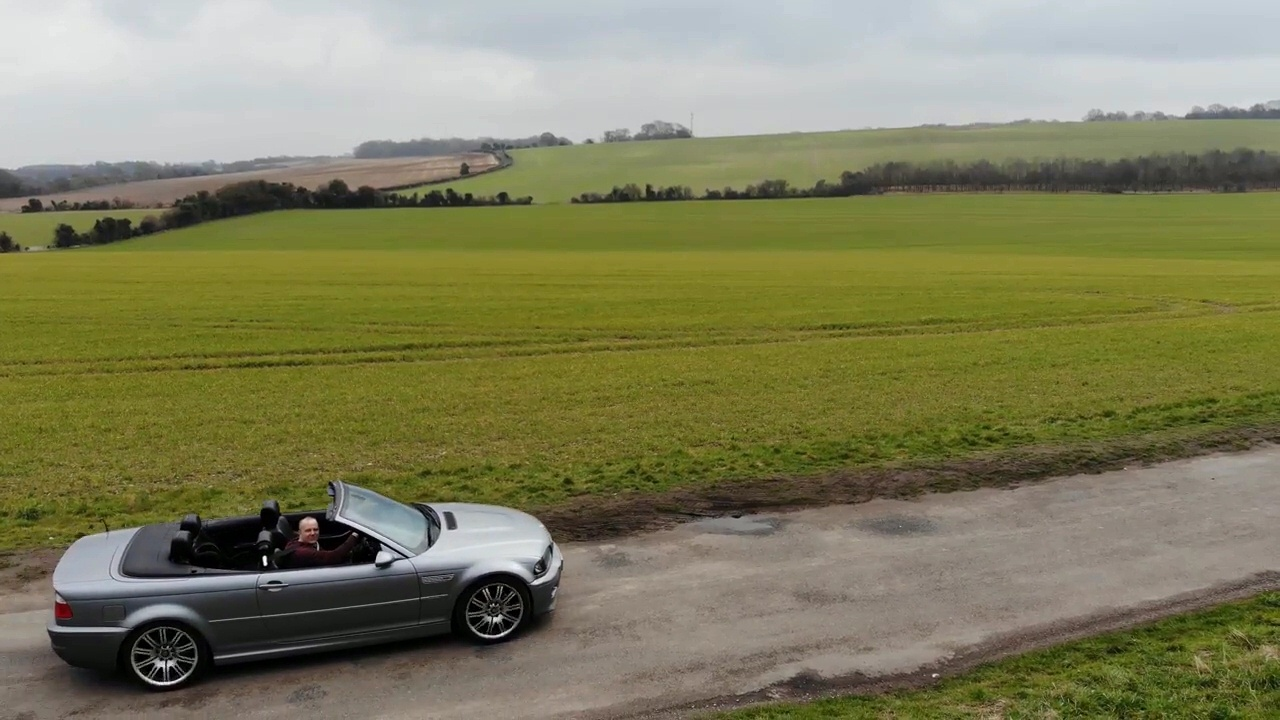araba: (49, 475, 565, 690)
